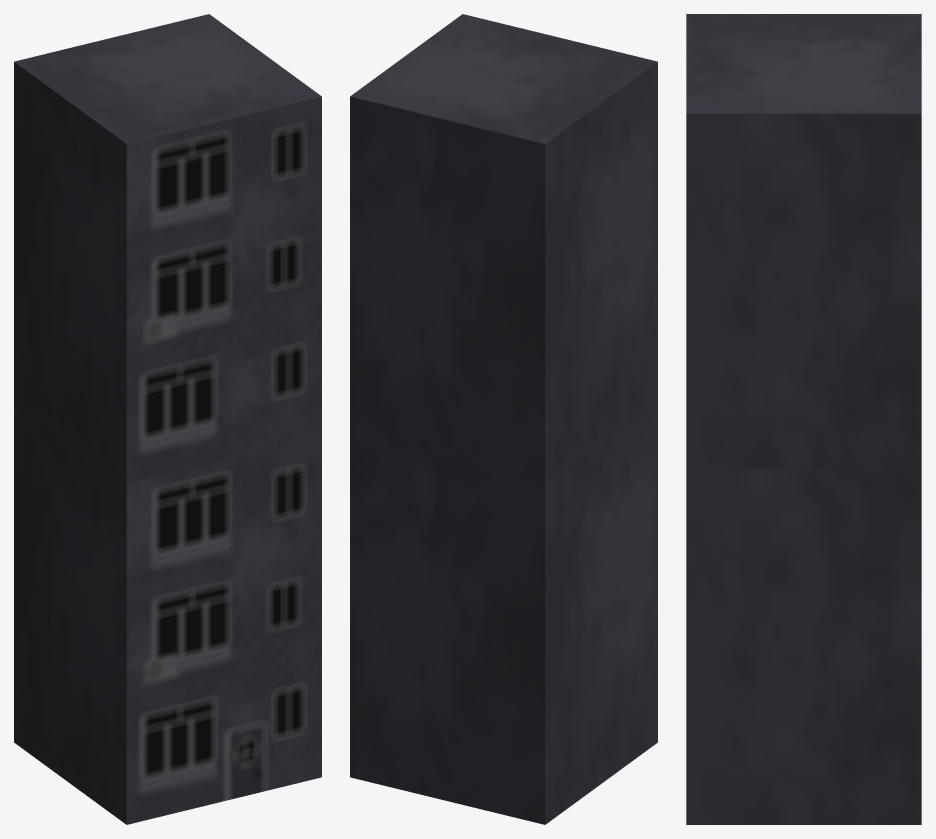
File: building-b.fbx
3 renders of one model, left to right at view 1: azimuth 30°, elevation 25°; view 2: azimuth 150°, elevation 25°; view 3: azimuth 270°, elevation 25°, orthographic. The views are drawn at different scales.
Visible parts, largest first — view 1: Cube.002, Cube; view 2: Cube.002, Cube; view 3: Cube.002, Cube.
Boxes of the visible parts, x1,y1,x2,y2 form: Cube.002: [14, 14, 321, 484]; Cube: [14, 402, 321, 824]; Cube.002: [350, 14, 657, 484]; Cube: [350, 402, 657, 824]; Cube.002: [686, 14, 921, 469]; Cube: [686, 469, 921, 824].
Size of the model in its own units: 600 by 2000 by 600.
